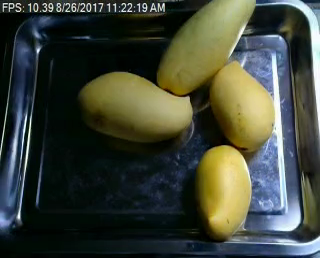Mango: (153, 0, 258, 96), (77, 70, 193, 141), (210, 60, 278, 150), (196, 145, 250, 237)
